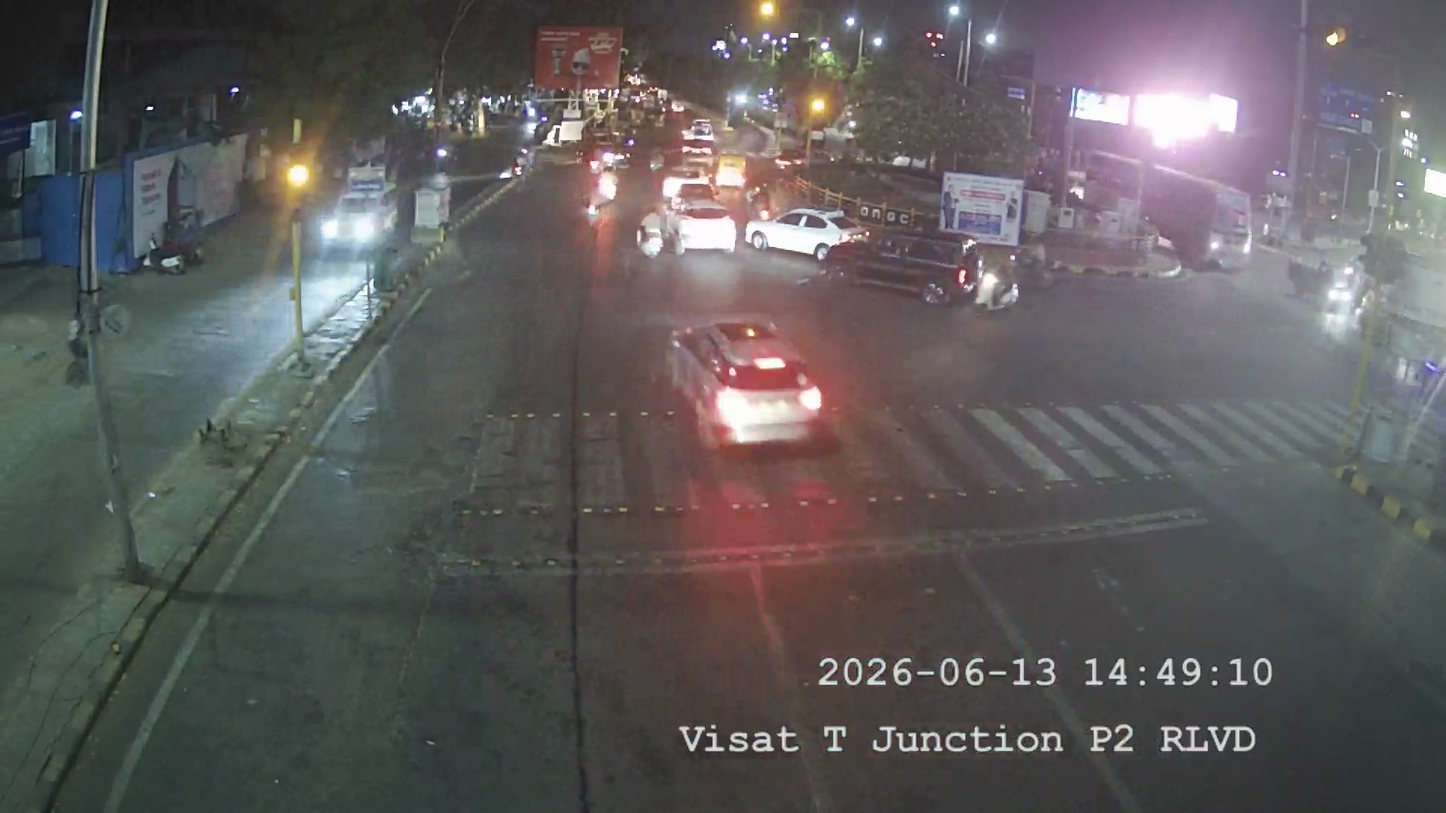auto_rickshaw: (714, 151, 749, 187)
car: (657, 310, 831, 450), (746, 202, 872, 259), (317, 183, 395, 255), (661, 168, 733, 245), (665, 193, 738, 254), (662, 169, 723, 218), (681, 115, 717, 152)
pedestrian: (61, 299, 96, 386)
two_wheeler: (951, 236, 1026, 309), (964, 248, 1025, 311), (951, 235, 1001, 303), (579, 166, 618, 234), (635, 202, 669, 260)
